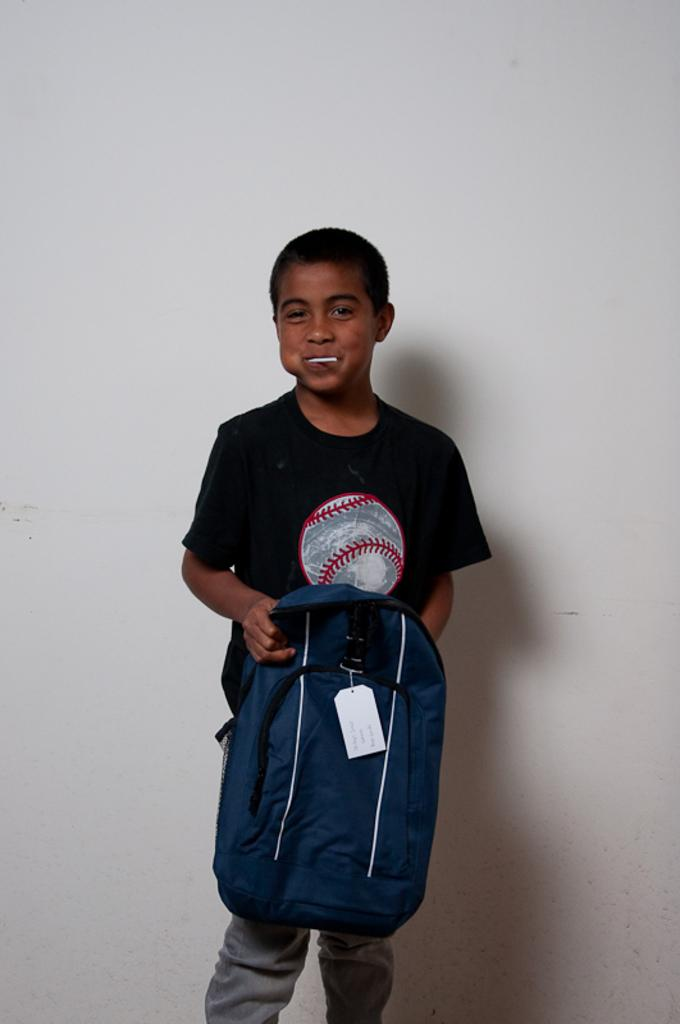Luggage-and-bags: (213, 559, 435, 960)
